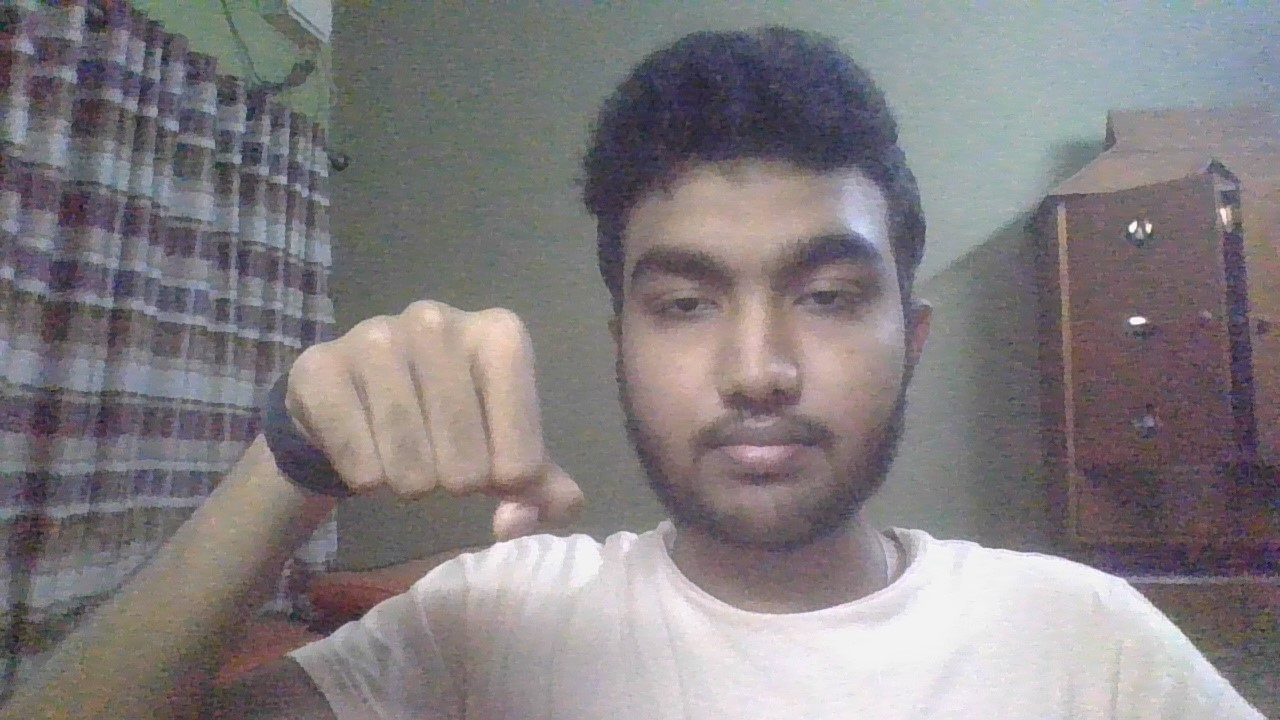Yes: (247, 287, 601, 570)
